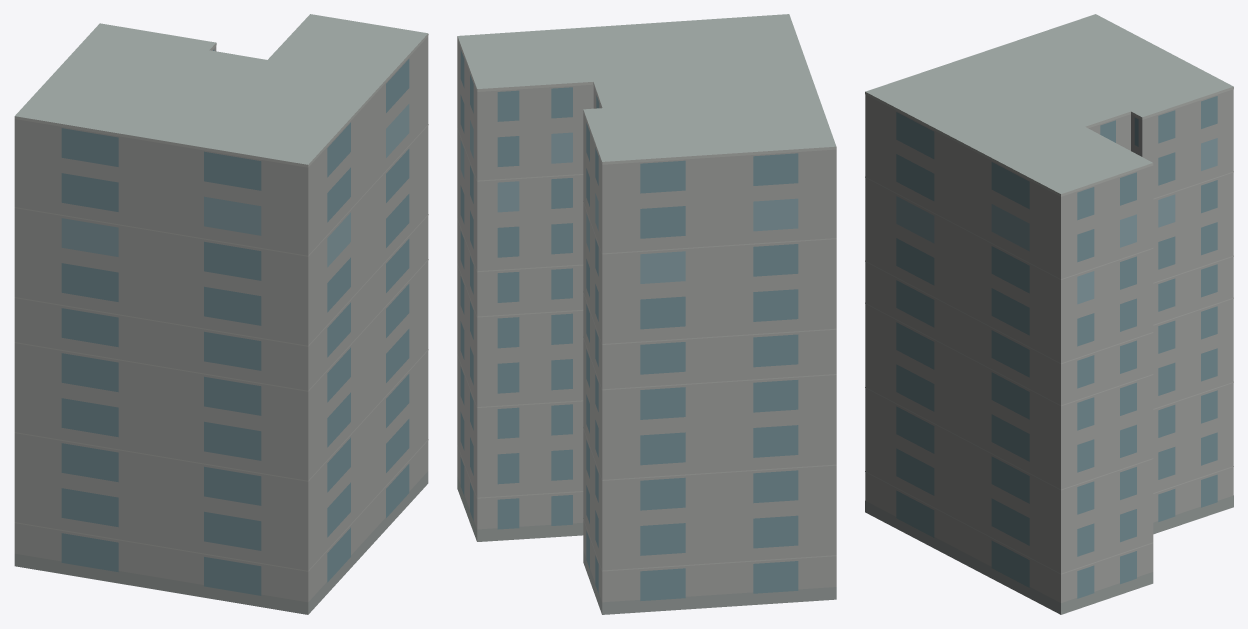
Rendered from survey-upis-32888912.glb.
The picture shows the model from 3 angles, left to right: view 1: azimuth 30°, elevation 25°; view 2: azimuth 150°, elevation 25°; view 3: azimuth 270°, elevation 25°; orthographic projection. The views are drawn at different scales.
Parts seen in each view (by area): view 1: survey-upis-32888912.tmp; view 2: survey-upis-32888912.tmp; view 3: survey-upis-32888912.tmp.
Part boxes in pixels (<box>): survey-upis-32888912.tmp: <box>14,14,428,614</box>; survey-upis-32888912.tmp: <box>457,14,836,614</box>; survey-upis-32888912.tmp: <box>865,14,1233,614</box>.
Size of the model in its own units: 35.4 by 38.5 by 30.59.
